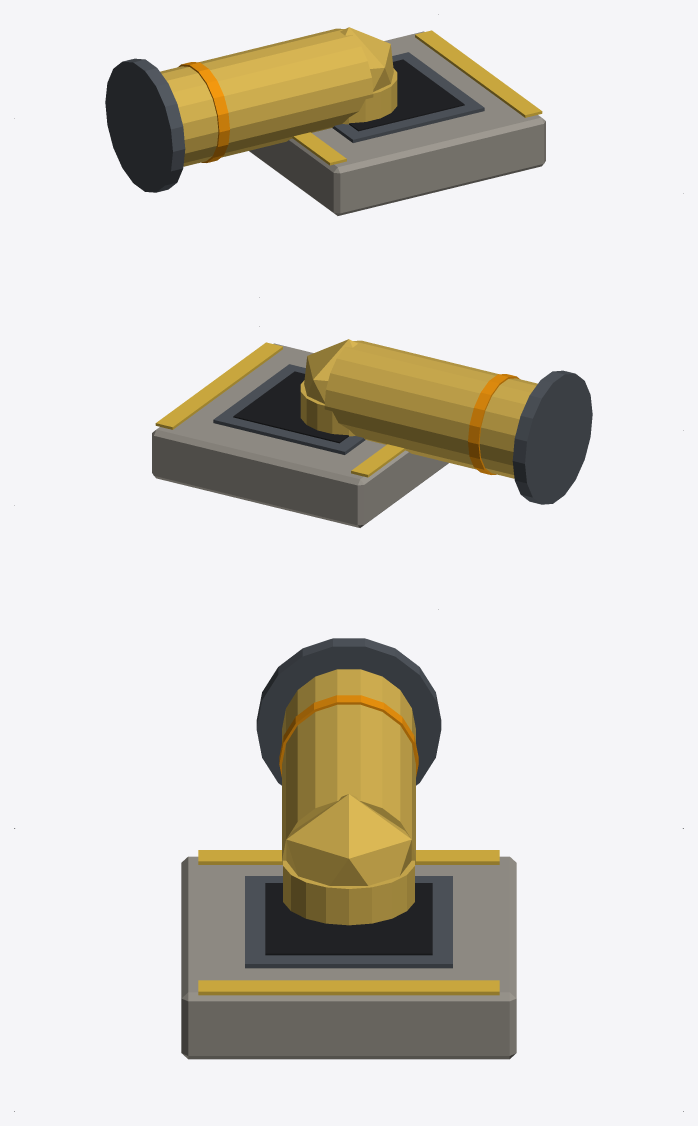
The model's file is tuyau_regard_t2.glb.
3 renders of one model, top to bottom at view 1: azimuth 30°, elevation 25°; view 2: azimuth 150°, elevation 25°; view 3: azimuth 270°, elevation 25°, orthographic. The views are drawn at different scales.
Visible parts, largest first — view 1: pieces_laiton.014, pieces_beton.044, pieces_acier_sombre.044, pieces_jaune.008, pieces_noir.008, pieces_rive_t2.014; view 2: pieces_laiton.014, pieces_beton.044, pieces_acier_sombre.044, pieces_jaune.008, pieces_noir.008, pieces_rive_t2.014; view 3: pieces_beton.044, pieces_laiton.014, pieces_acier_sombre.044, pieces_noir.008, pieces_jaune.008, pieces_rive_t2.014.
Boxes of the visible parts, <box> form: pieces_laiton.014: <box>160,27,397,166</box>; pieces_beton.044: <box>249,31,545,215</box>; pieces_acier_sombre.044: <box>105,52,484,192</box>; pieces_jaune.008: <box>292,30,542,165</box>; pieces_noir.008: <box>349,59,464,131</box>; pieces_rive_t2.014: <box>178,62,229,162</box>; pieces_laiton.014: <box>300,339,537,478</box>; pieces_beton.044: <box>152,343,448,527</box>; pieces_acier_sombre.044: <box>213,364,592,504</box>; pieces_jaune.008: <box>155,342,405,477</box>; pieces_noir.008: <box>233,371,348,443</box>; pieces_rive_t2.014: <box>468,374,519,474</box>; pieces_beton.044: <box>181,856,516,1059</box>; pieces_laiton.014: <box>282,669,415,925</box>; pieces_acier_sombre.044: <box>245,638,452,968</box>; pieces_noir.008: <box>265,883,432,955</box>; pieces_jaune.008: <box>198,850,499,995</box>; pieces_rive_t2.014: <box>279,695,418,776</box>.
Size of the model in its own units: 1 by 0.3159 by 1.
